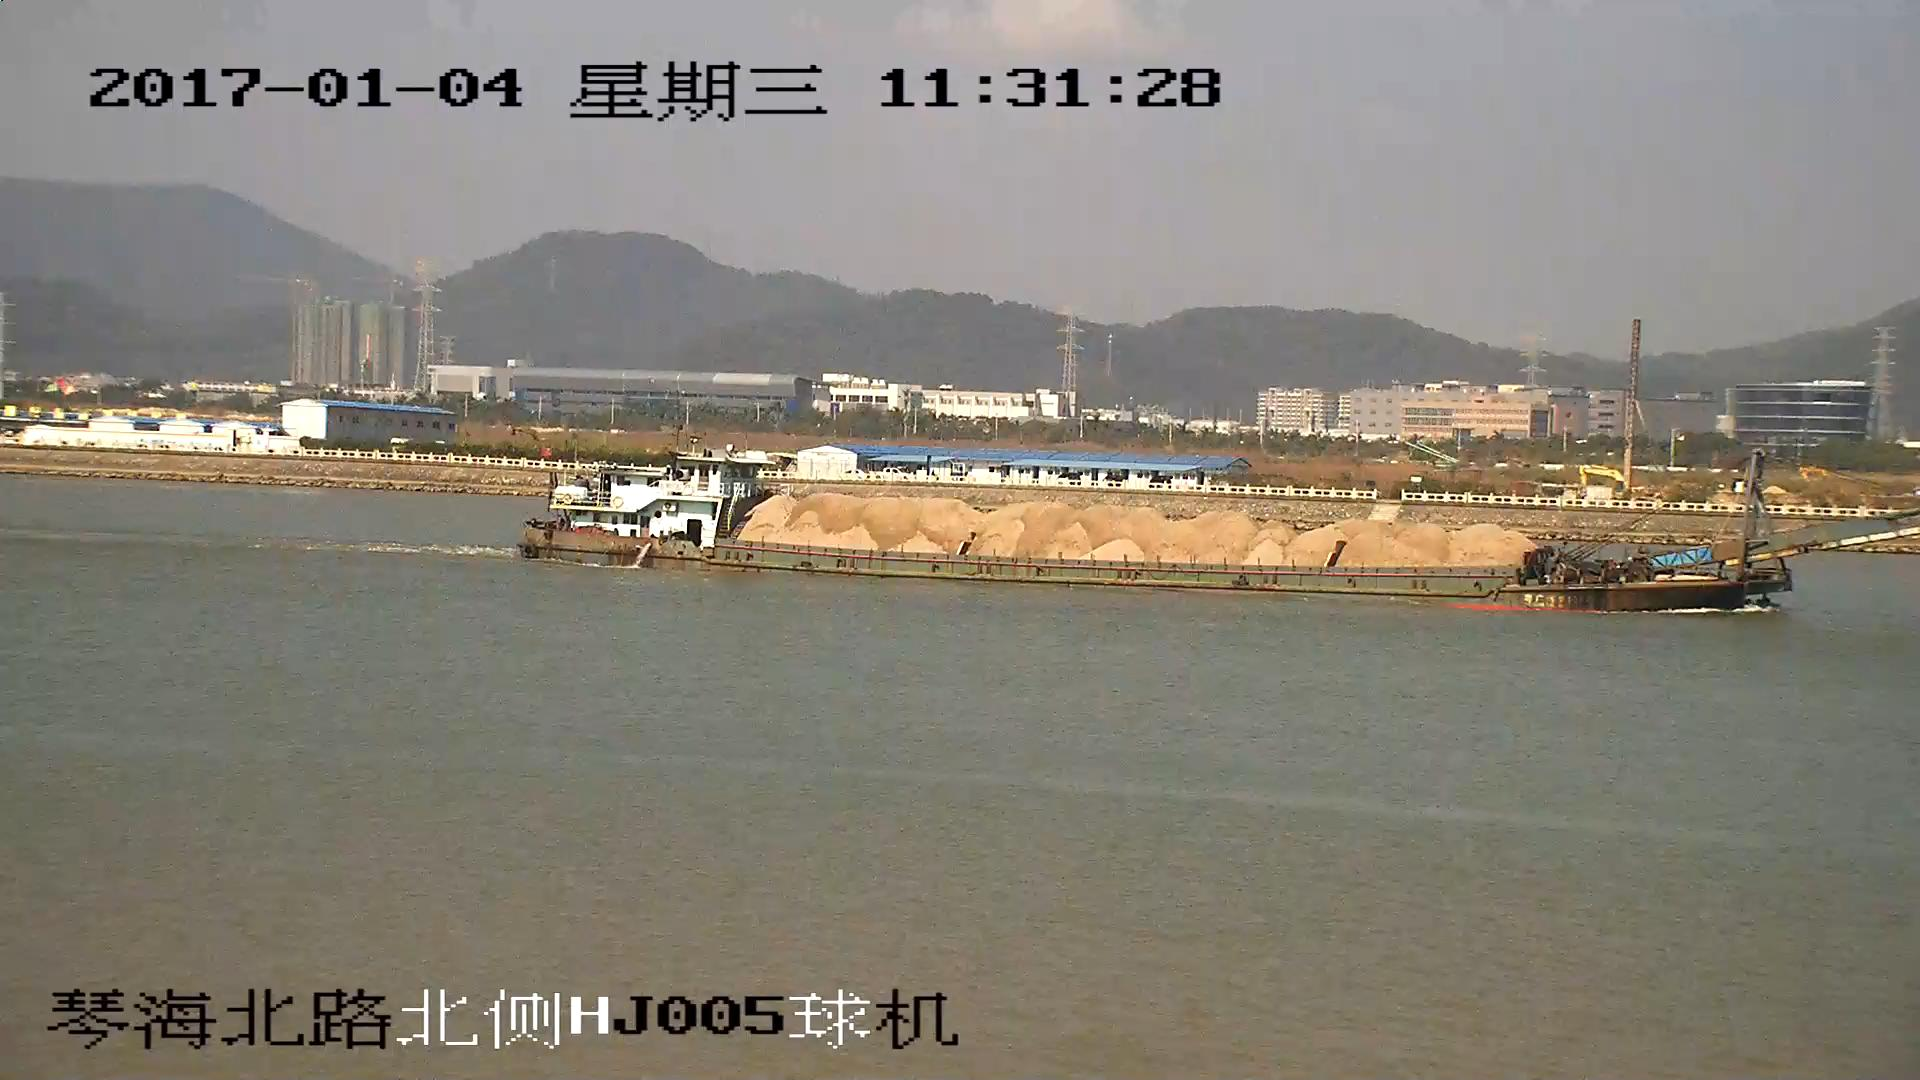ore carrier: (517, 452, 1920, 615)
